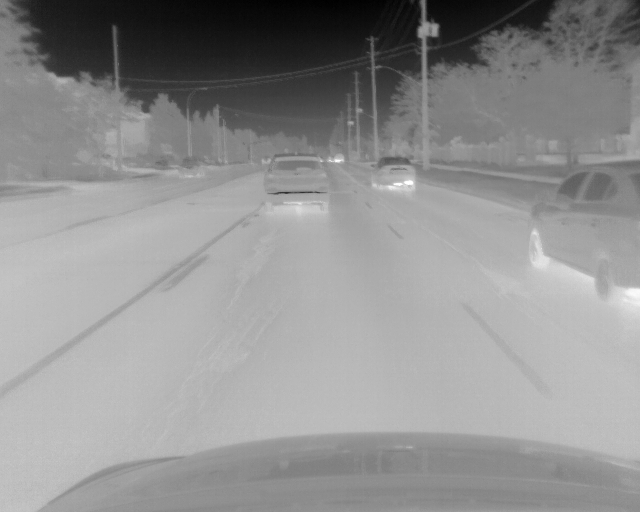car: (524, 159, 640, 300), (265, 154, 330, 214), (370, 157, 414, 191), (178, 156, 206, 178)
